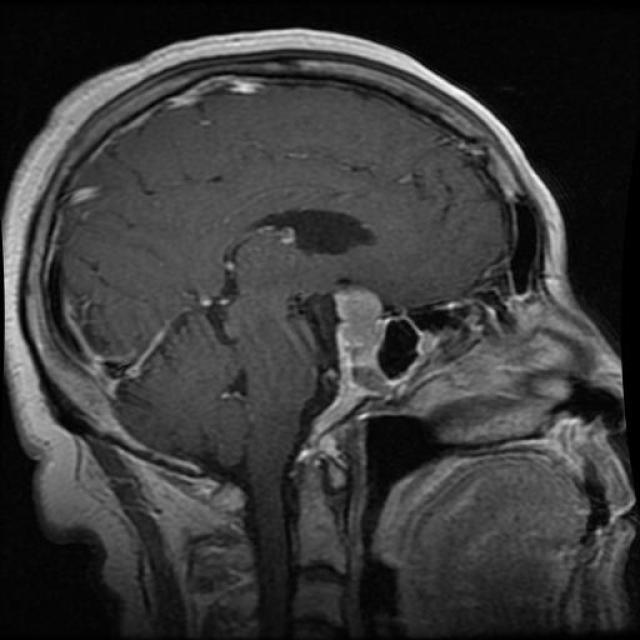pituitary: (306, 276, 417, 394)
